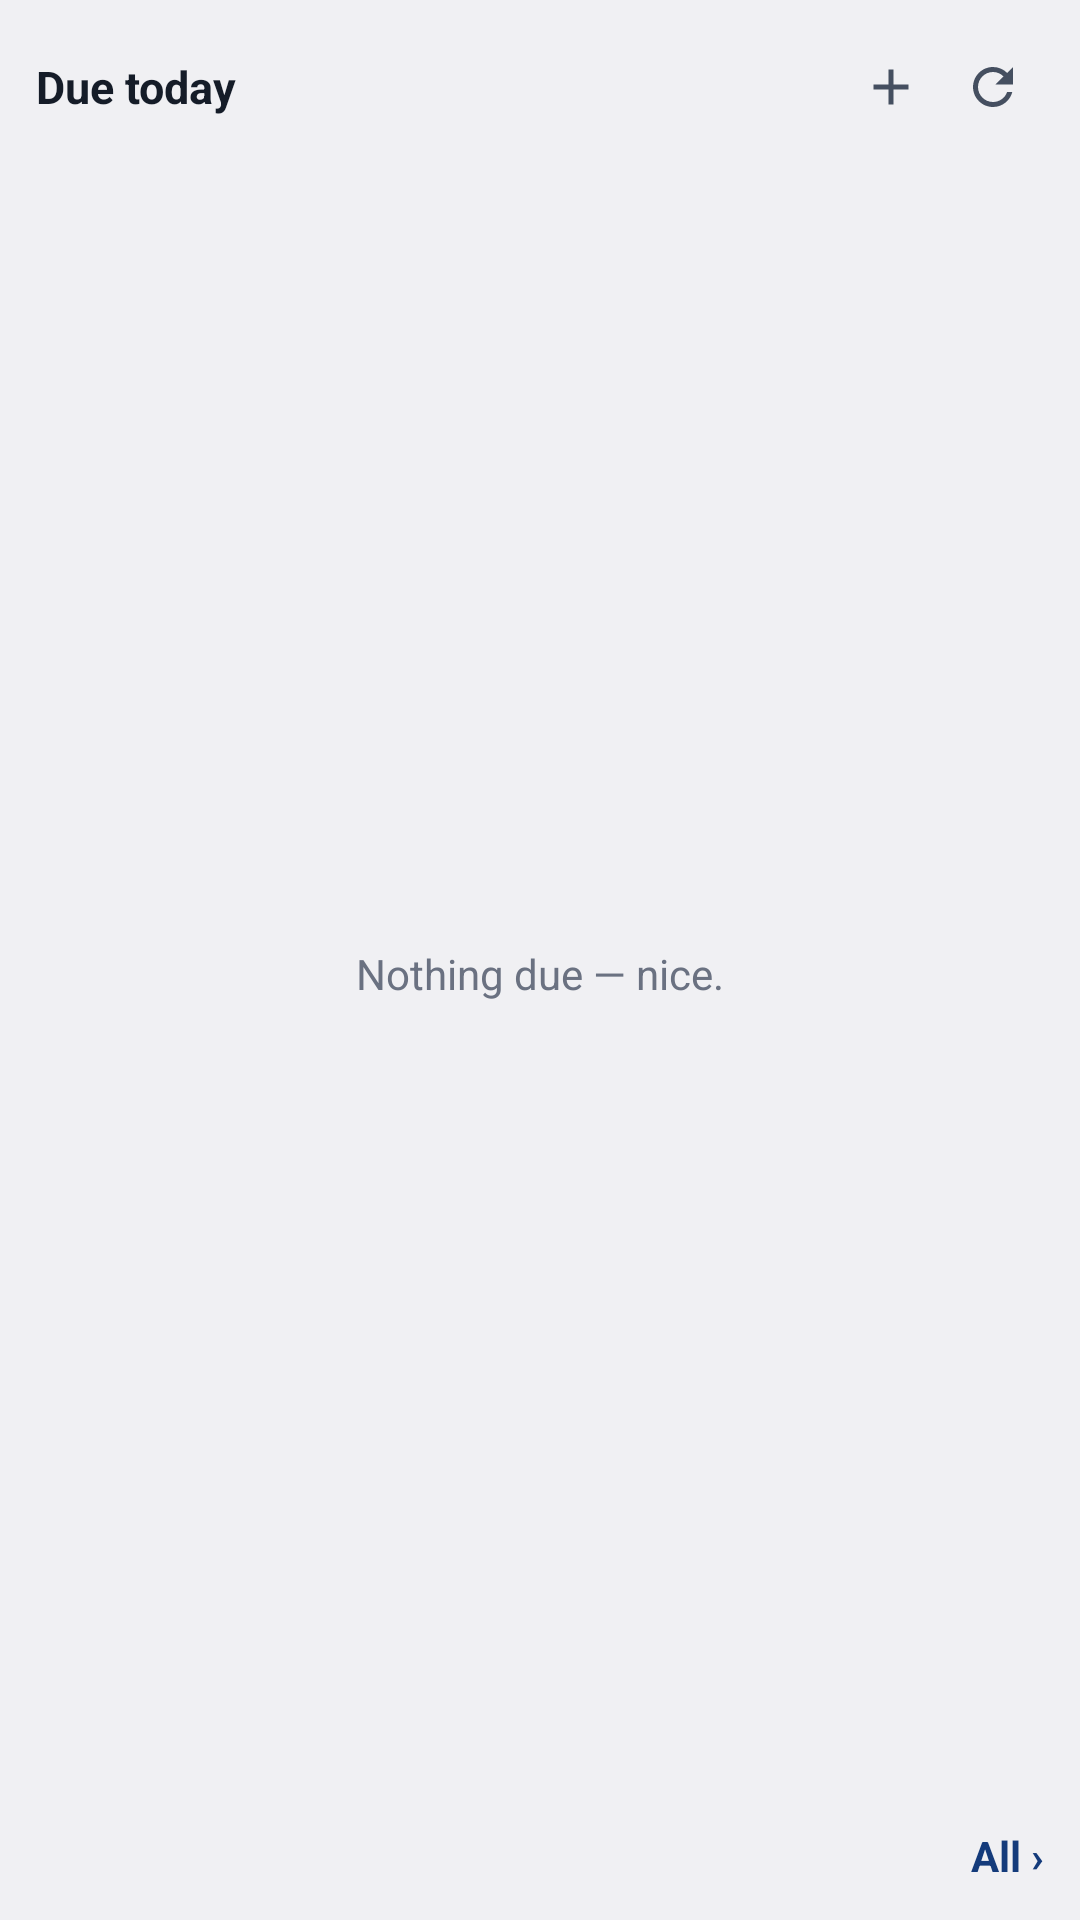

Screen size 1080px×1920px. Icon name, then its box in pixels as (x1, y1, x2, y2):
Add: (873, 69, 909, 105)
Refresh: (973, 67, 1013, 107)
